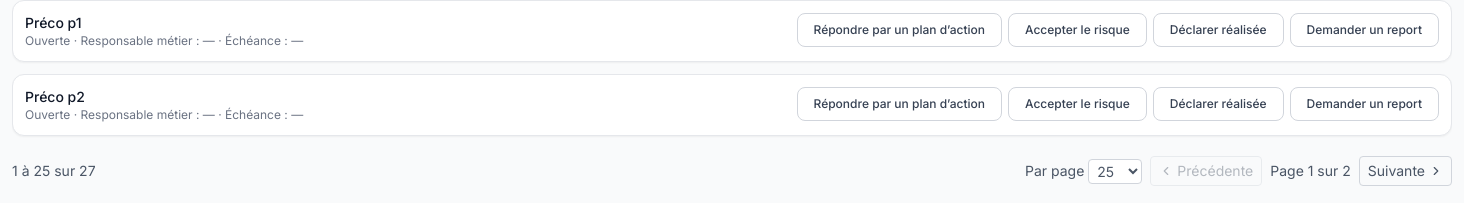
PreconisationsPanel (liste paginée côté serveur) › charge la page 1 paginée, affiche la barre de pagination et change de page par l'URL
This screenshot has width=1464, height=203.
Expected: the text "Préco p1" is shown, [25,14,82,31]
Expected: the text "Page 1 sur 2" is shown, [1270,161,1351,181]
Click the button "Suivante" at (1405, 171), box [1359,156,1452,186]
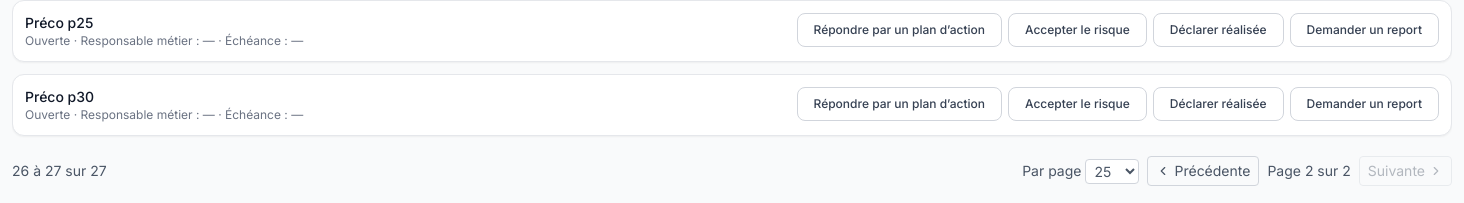
Result: the text "Préco p30" is shown at [25,88,94,105]
